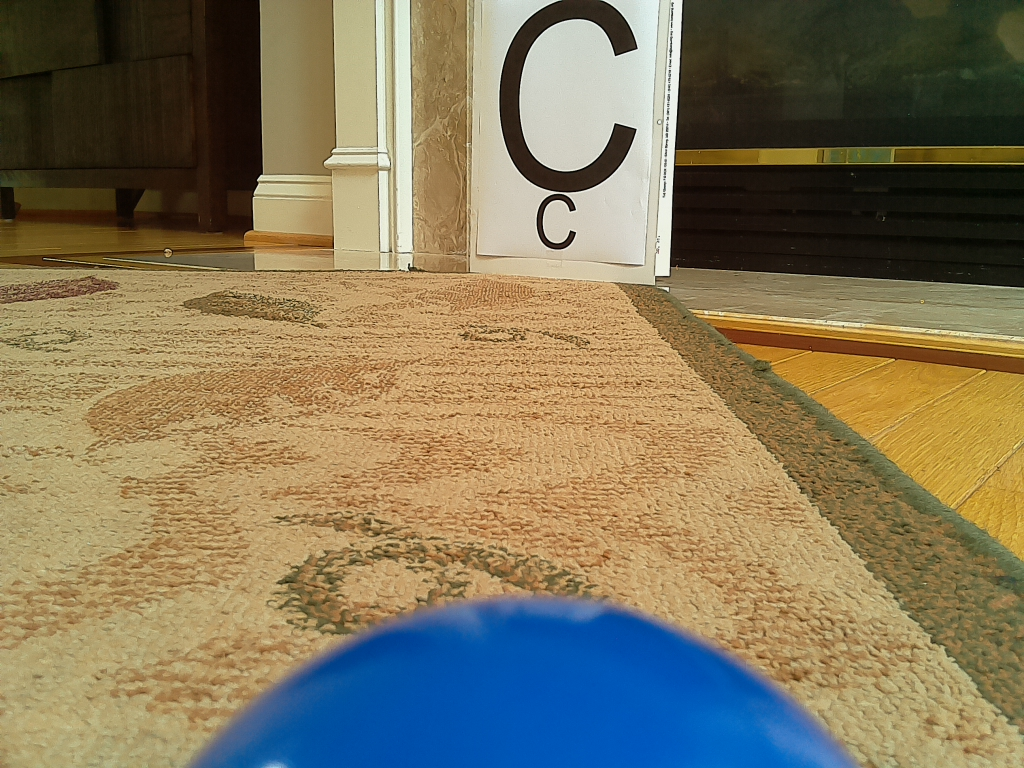letter: (499, 1, 637, 192)
